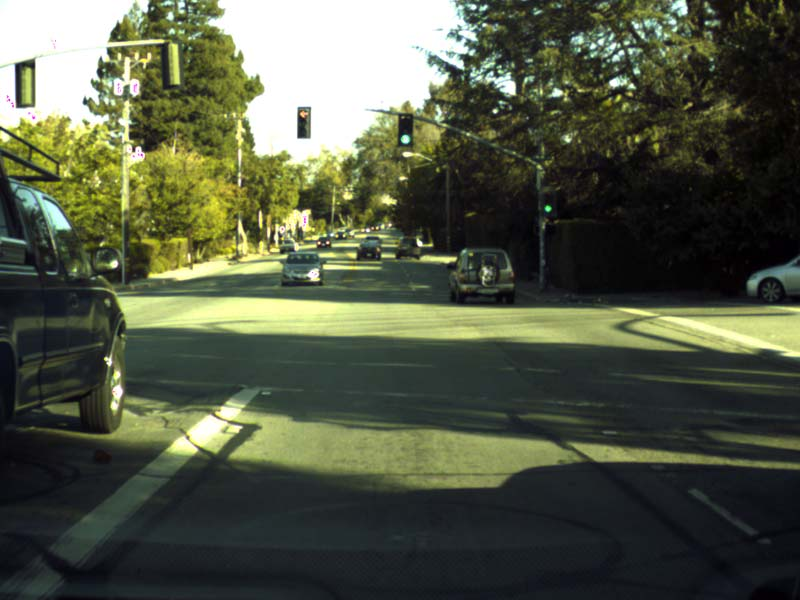Green: (399, 114, 412, 146), (543, 191, 552, 214)
Red: (296, 106, 310, 139)
